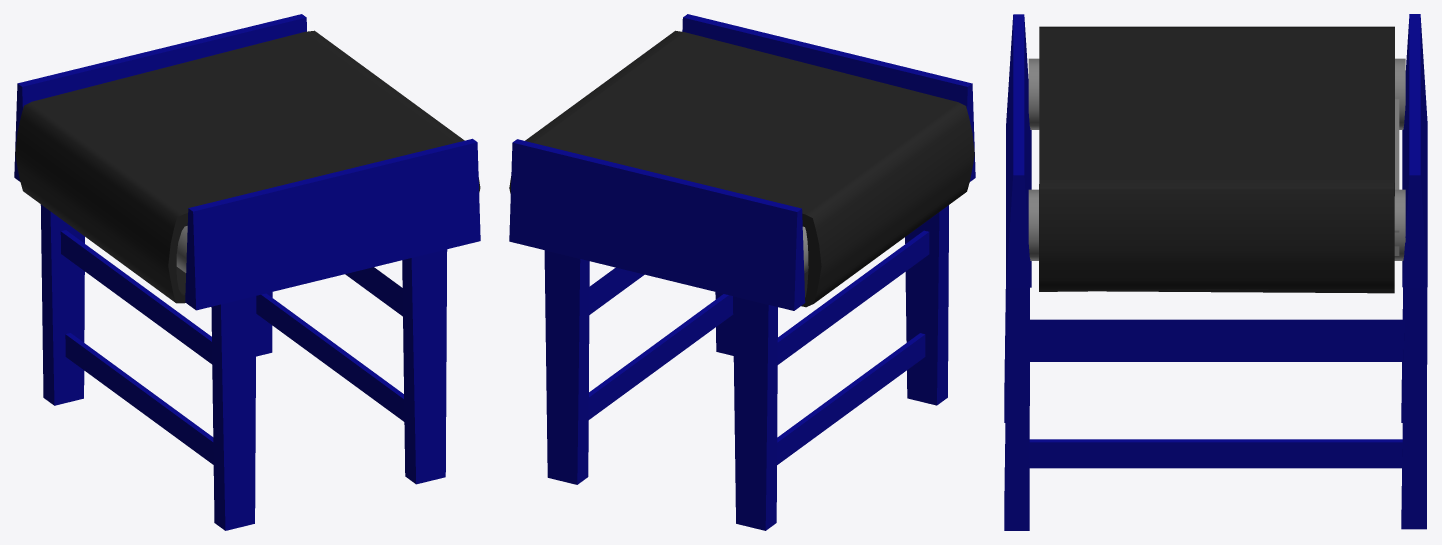
Rendered from Coneyor belt.fbx.
The picture shows the model from 3 angles, left to right: view 1: azimuth 30°, elevation 25°; view 2: azimuth 150°, elevation 25°; view 3: azimuth 270°, elevation 25°; orthographic projection. The views are drawn at different scales.
Visible parts, largest first — view 1: pasted__pasted__pasted__pasted__pasted__pasted__polySurface2; view 2: pasted__pasted__pasted__pasted__pasted__pasted__polySurface2; view 3: pasted__pasted__pasted__pasted__pasted__pasted__polySurface2.
Part boxes in pixels (x1,y1,x2,y2): pasted__pasted__pasted__pasted__pasted__pasted__polySurface2: [14, 14, 480, 530]; pasted__pasted__pasted__pasted__pasted__pasted__polySurface2: [509, 14, 975, 530]; pasted__pasted__pasted__pasted__pasted__pasted__polySurface2: [1004, 14, 1427, 530].
Bounding box in the file's own units: 0.8473 × 0.8393 × 0.8577.
